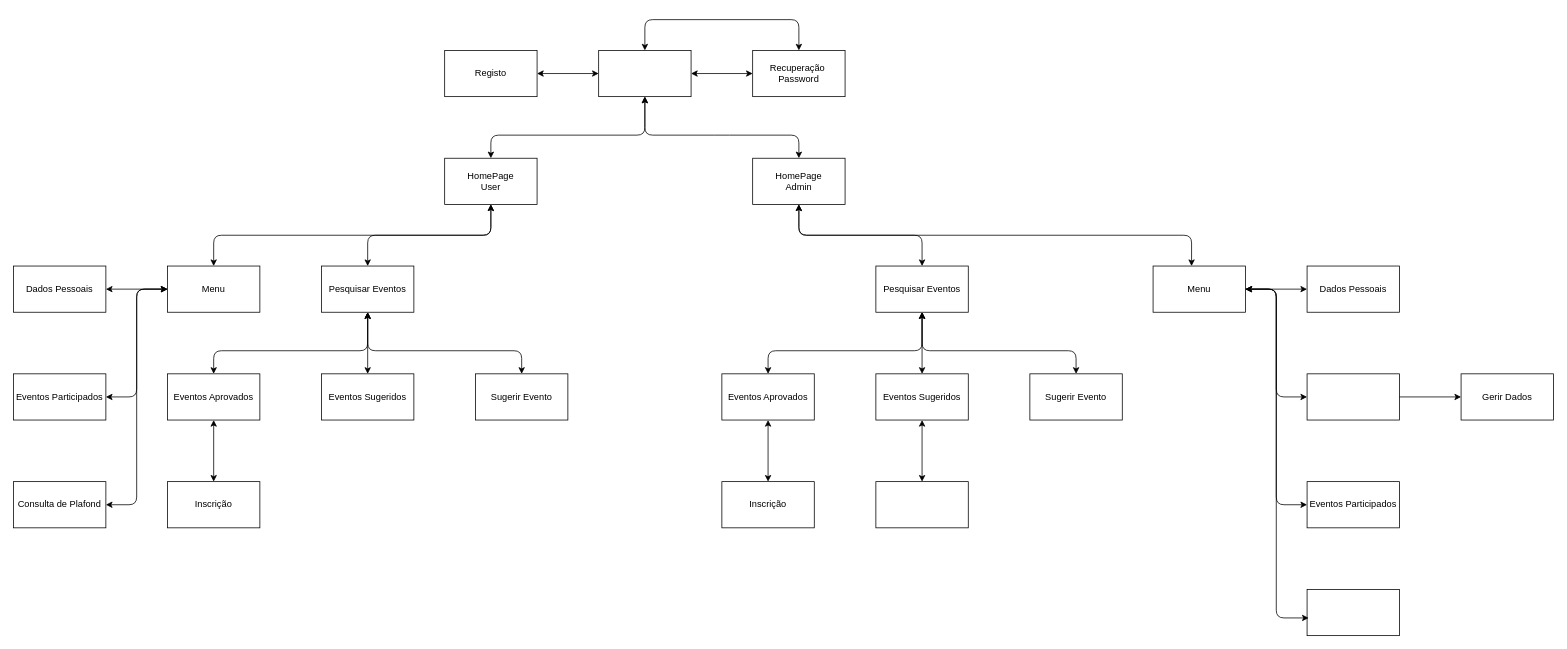
Some shapes in this 1567 by 649 pixel diagram are drawn without their labels. Each missing label, with the centre of its shape:
"Aprovar Evento" goes at (921,504).
"Aprovar Novos Membros" goes at (1352,612).
"Login" goes at (644,73).
"Pesquisar Membros" goes at (1352,396).
